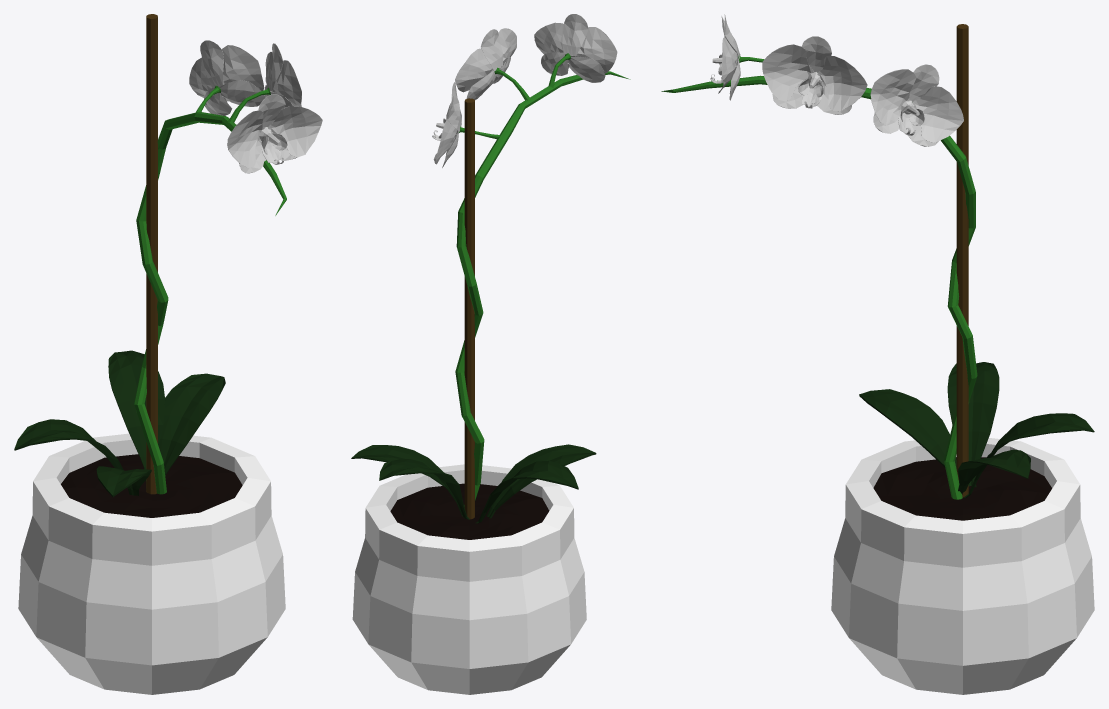
Rendered from orchid.obj.
3 renders of one model, left to right at view 1: azimuth 30°, elevation 25°; view 2: azimuth 150°, elevation 25°; view 3: azimuth 270°, elevation 25°, orthographic. The views are drawn at different scales.
Bounding box in the file's own units: 3.17 × 8 × 4.9.
